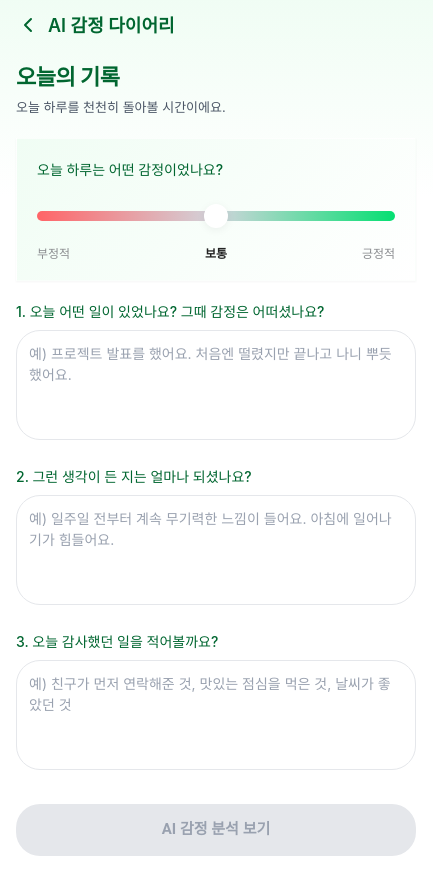
Test: DiaryWrite › 3 답 모두 입력 시 CTA 활성
This screenshot has width=433, height=873.
Type "테스트 답 1" into the text box labelled "1. 오늘 어떤 일이 있었나요? 그때 감정은 어떠셨나요?" at (216, 384), box [16,330,416,440]
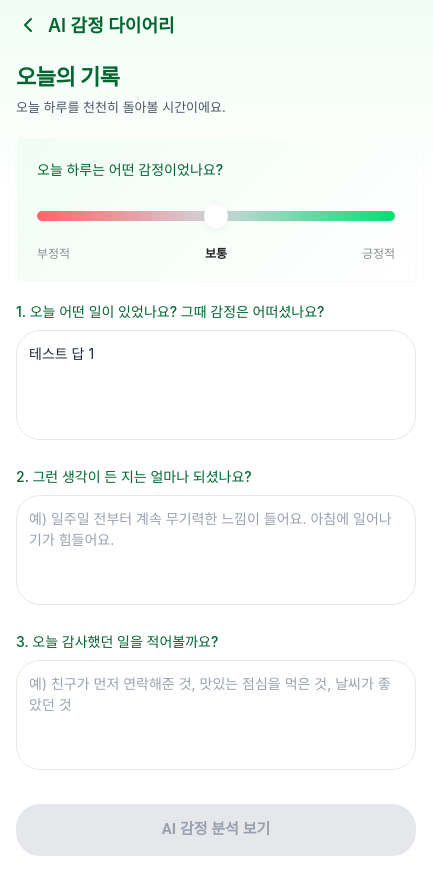
Type "테스트 답 2" into the text box labelled "2. 그런 생각이 든 지는 얼마나 되셨나요?" at (216, 550), box [16,494,416,604]
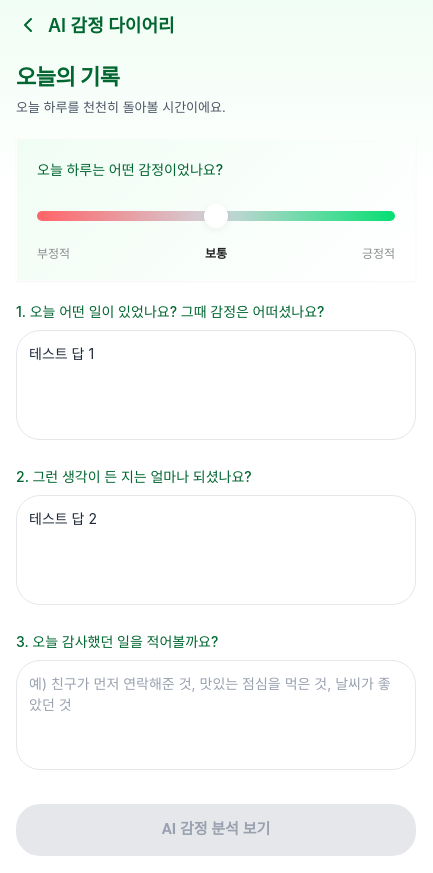
Type "테스트 답 3" into the text box labelled "3. 오늘 감사했던 일을 적어볼까요?" at (216, 714), box [16,660,416,770]
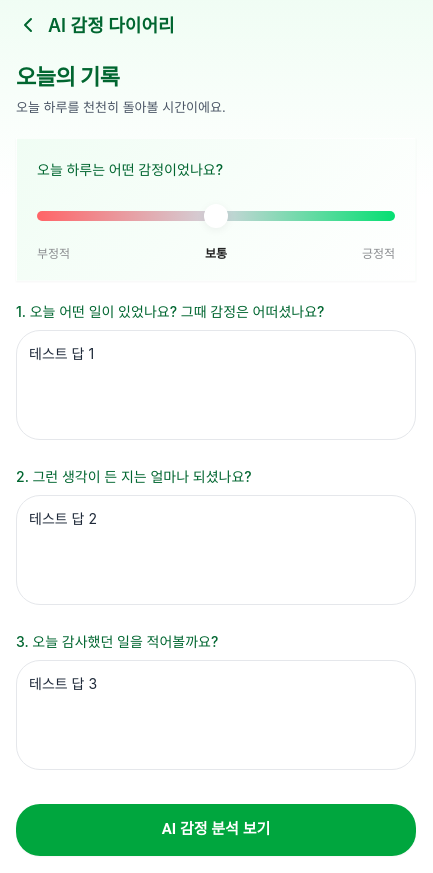
Now the button "AI 감정 분석 보기" is enabled, box [16,804,416,856]
